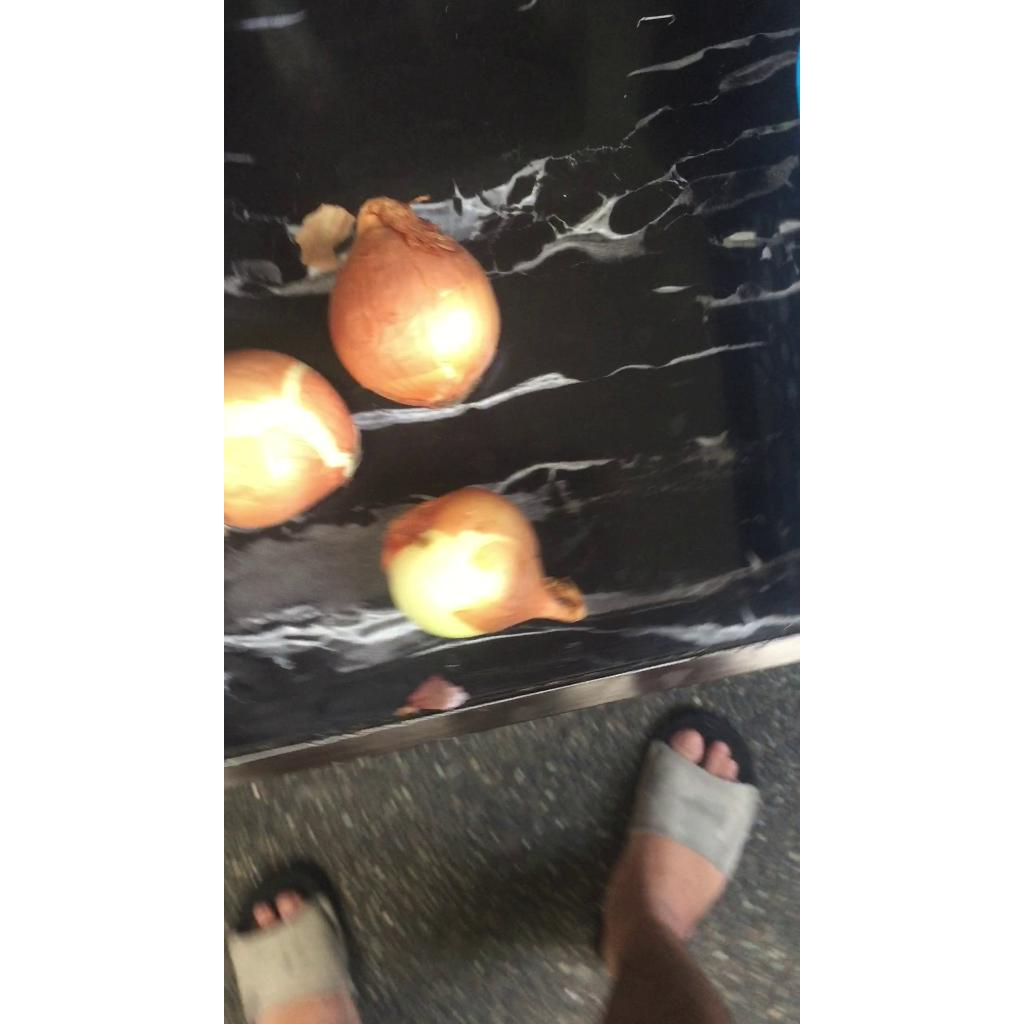Onion: (328, 196, 499, 406), (380, 488, 586, 638), (224, 349, 359, 528)
